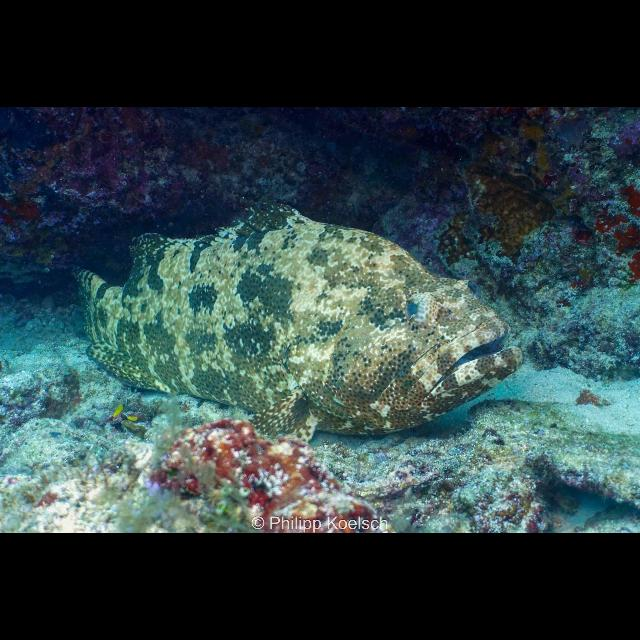Groupers: (62, 199, 524, 447)
